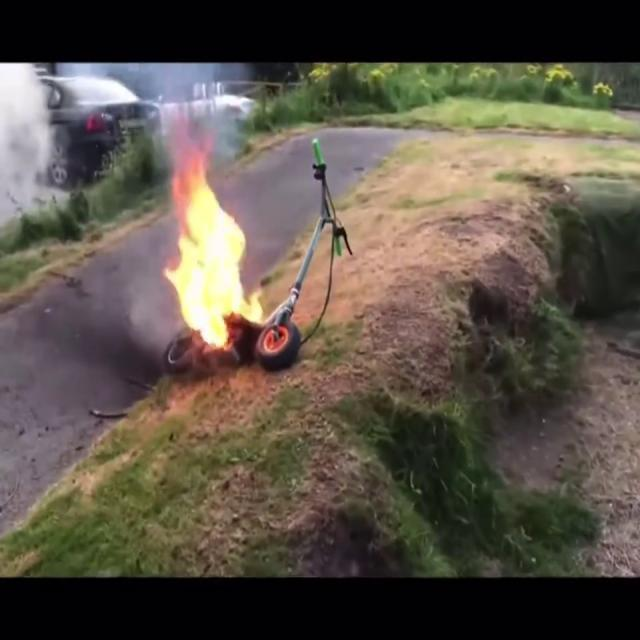Fire: (164, 154, 268, 352)
Smoke: (3, 225, 173, 435), (129, 63, 254, 171), (0, 62, 55, 242)
